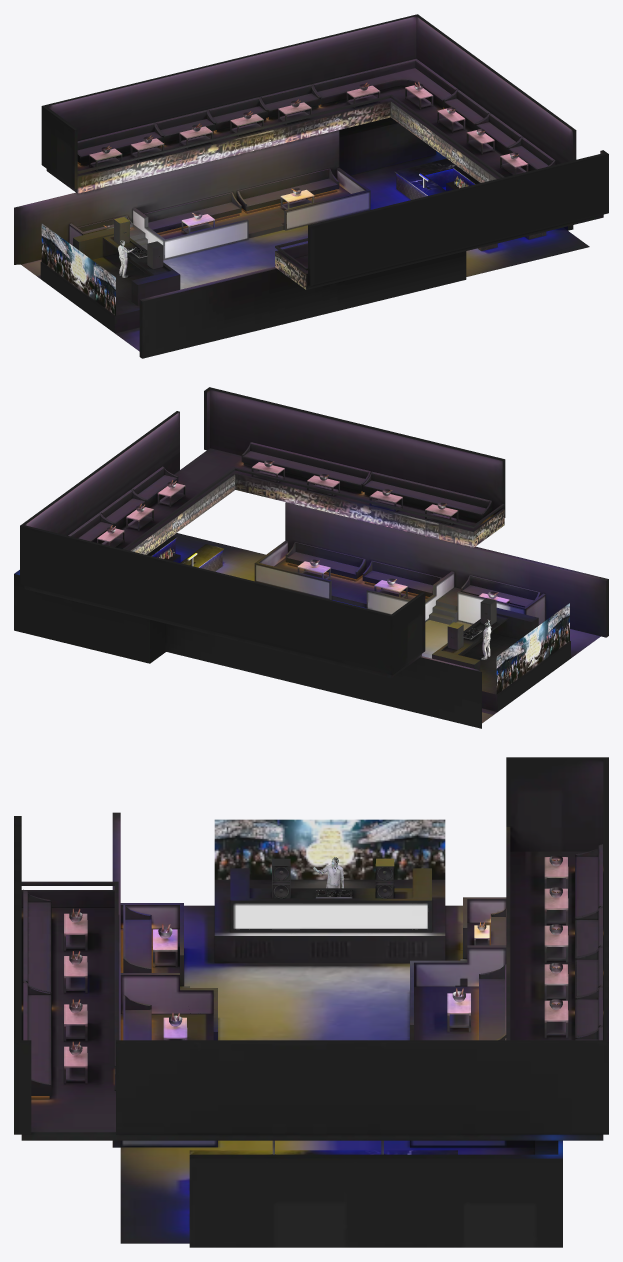
File: Trio Charlotte (1).glb
3 renders of one model, top to bottom at view 1: azimuth 30°, elevation 25°; view 2: azimuth 150°, elevation 25°; view 3: azimuth 270°, elevation 25°, orthographic. The views are drawn at different scales.
Visible parts, largest first — view 1: Plane_Baked, Plane_Baked.018, Plane_Baked.002, Plane_Baked.017, Plane_Baked.020, Plane_Baked.003, Plane_Baked.001, Plane_Baked.005, Plane_Baked.006, Plane_Baked.007, Plane_Baked.004, Plane_Baked.008; view 2: Plane_Baked, Plane_Baked.009, Plane_Baked.008, Plane_Baked.010, Plane_Baked.011, Plane_Baked.012; view 3: Plane_Baked, Plane_Baked.016, Plane_Baked.003, Plane_Baked.005, Plane_Baked.002, Plane_Baked.013, Plane_Baked.010, Plane_Baked.017, Plane_Baked.011, Plane_Baked.004, Plane_Baked.012, Plane_Baked.001.
Boxes of the visible parts, x1=… form: Plane_Baked: x1=14, y1=14, x2=608, y2=358; Plane_Baked.018: x1=280, y1=188, x2=314, y2=209; Plane_Baked.002: x1=130, y1=135, x2=164, y2=161; Plane_Baked.017: x1=181, y1=212, x2=214, y2=233; Plane_Baked.020: x1=346, y1=82, x2=380, y2=108; Plane_Baked.003: x1=179, y1=123, x2=212, y2=149; Plane_Baked.001: x1=89, y1=145, x2=122, y2=171; Plane_Baked.005: x1=278, y1=99, x2=311, y2=125; Plane_Baked.006: x1=405, y1=81, x2=433, y2=109; Plane_Baked.007: x1=437, y1=107, x2=465, y2=133; Plane_Baked.004: x1=230, y1=111, x2=263, y2=137; Plane_Baked.008: x1=466, y1=129, x2=494, y2=154; Plane_Baked: x1=14, y1=387, x2=608, y2=728; Plane_Baked.009: x1=157, y1=480, x2=185, y2=507; Plane_Baked.008: x1=126, y1=503, x2=153, y2=531; Plane_Baked.010: x1=425, y1=502, x2=458, y2=525; Plane_Baked.011: x1=369, y1=489, x2=402, y2=511; Plane_Baked.012: x1=307, y1=474, x2=339, y2=496; Plane_Baked: x1=14, y1=757, x2=608, y2=1247; Plane_Baked.016: x1=153, y1=924, x2=177, y2=967; Plane_Baked.003: x1=544, y1=924, x2=568, y2=963; Plane_Baked.005: x1=544, y1=999, x2=568, y2=1038; Plane_Baked.002: x1=544, y1=887, x2=568, y2=925; Plane_Baked.013: x1=64, y1=1041, x2=87, y2=1084; Plane_Baked.010: x1=64, y1=908, x2=87, y2=951; Plane_Baked.017: x1=447, y1=988, x2=470, y2=1032; Plane_Baked.011: x1=64, y1=951, x2=87, y2=993; Plane_Baked.004: x1=544, y1=963, x2=568, y2=1001; Plane_Baked.012: x1=64, y1=999, x2=87, y2=1041; Plane_Baked.001: x1=544, y1=855, x2=568, y2=894.
Bounding box in the file's own units: 24.74 × 6.31 × 17.98.
Materials: 2 (1 with a texture image).
